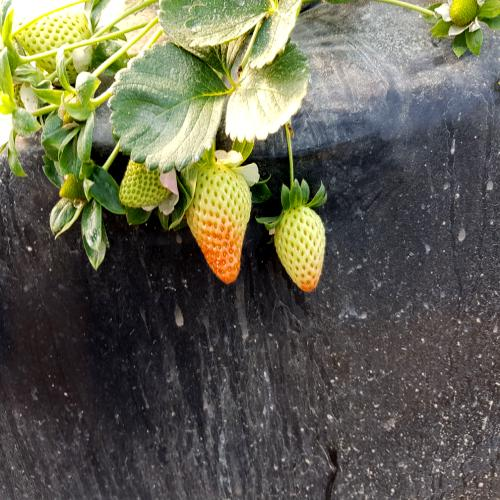partially-ripe: (186, 159, 254, 301), (272, 206, 330, 298)
